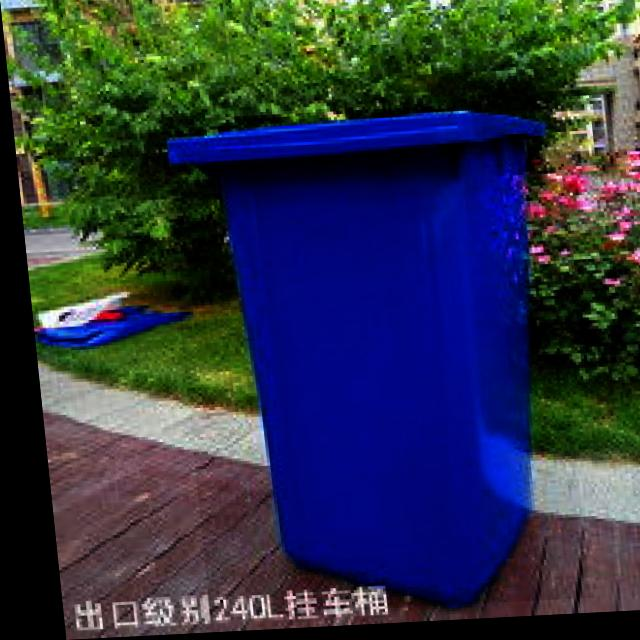garbage_bin: (156, 106, 577, 619)
